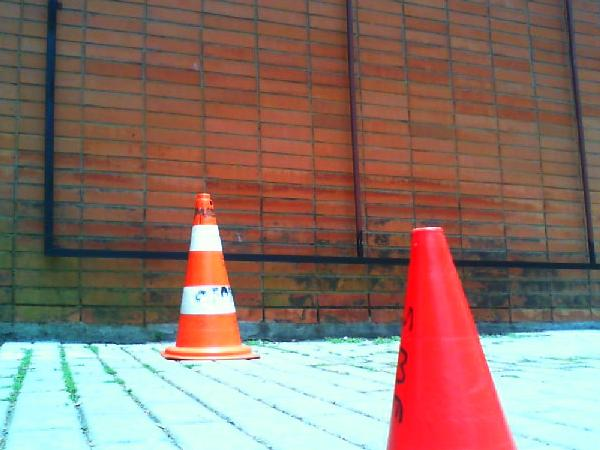0 cone: (384, 227, 522, 450), (161, 194, 259, 359)
